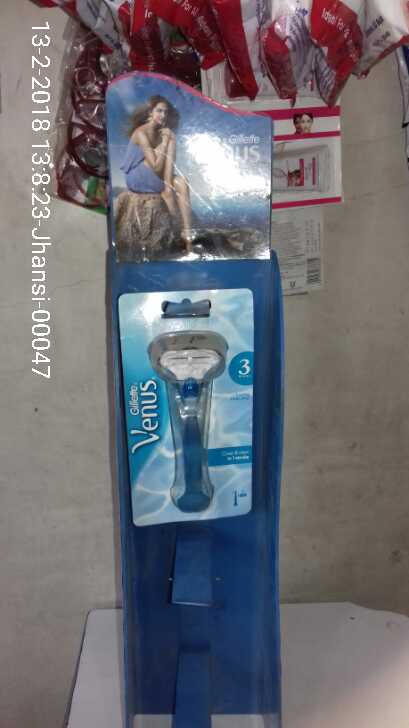venus: (108, 281, 256, 529)
